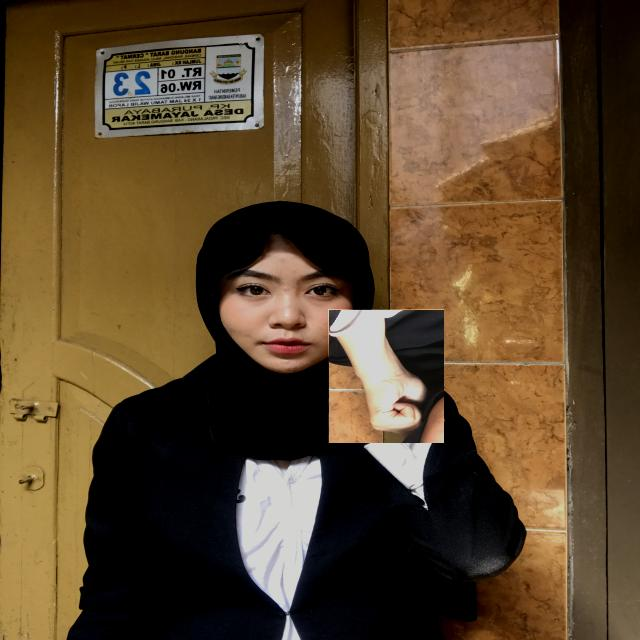ibu: (328, 309, 444, 443)
